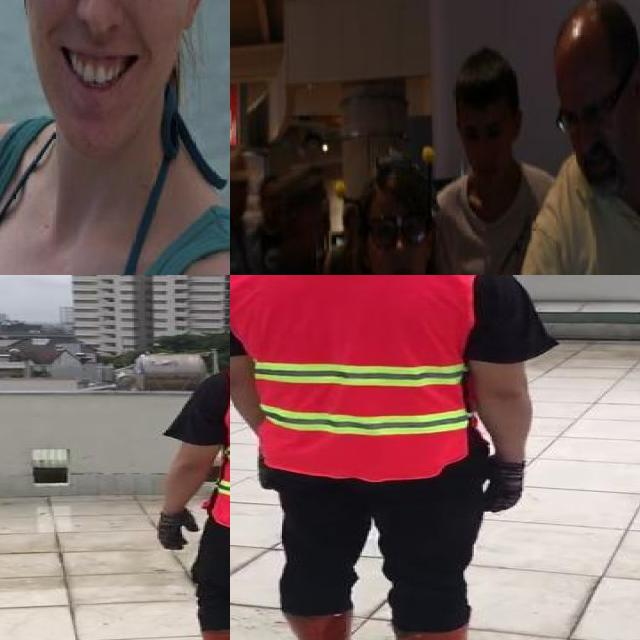boots: (283, 610, 365, 640)
face_nomask: (18, 0, 187, 106), (554, 90, 634, 176), (368, 212, 431, 275), (463, 110, 516, 164)
glasses: (362, 219, 437, 254)
hand_glove: (484, 457, 524, 512), (157, 512, 200, 551)
head_nohelmet: (445, 46, 530, 124), (350, 166, 448, 227), (550, 3, 637, 65)
person: (230, 275, 559, 640), (0, 0, 230, 275), (505, 0, 640, 275), (426, 44, 569, 275), (142, 275, 230, 640), (320, 165, 475, 275)
vest: (230, 275, 484, 480)
